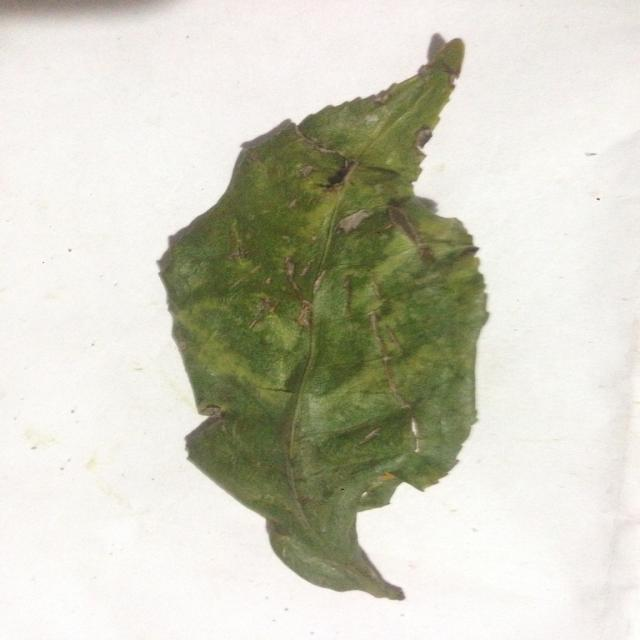Red Leaf Spot: (154, 30, 541, 612)
